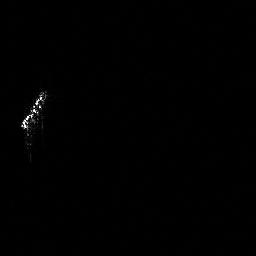ship: (17, 85, 51, 139)
